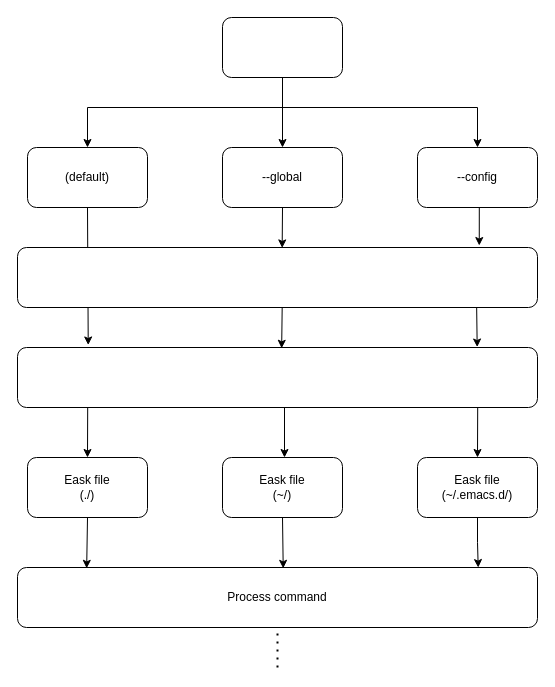
Image size: 555x687. Some labels were removed from this diagram. Here are the shapes that lost their labels. From the top down, the box of each, then its label:
(222, 16, 342, 78): eask
(16, 246, 538, 308): Switch emacs user directory
(16, 346, 538, 408): Load init.el (if presented)
